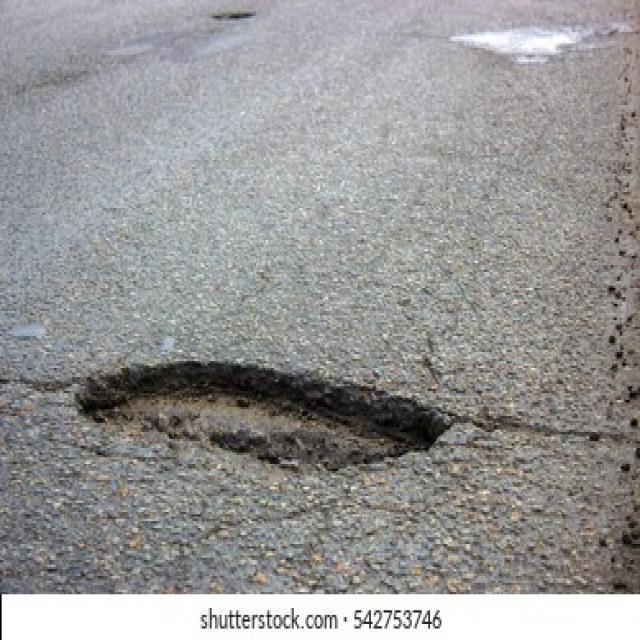pothole: (74, 359, 452, 476), (212, 14, 255, 21)
